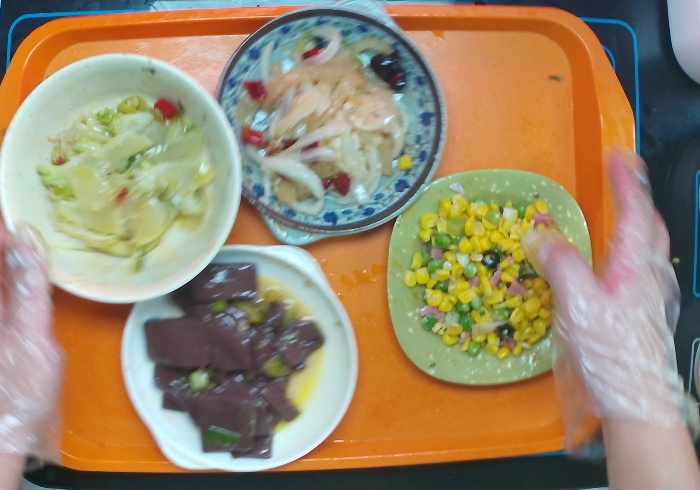NLDX-Bai_Se_Shuang_Er_Die: (119, 243, 359, 473)
NLDX-Bai_Se_Yuan_Wan: (1, 56, 244, 305)
NLDX-Lv_Hua_Fang_Die: (388, 170, 592, 387)
NLDX-Qing_Hua_Shuang_Er_Die: (212, 1, 448, 247)
